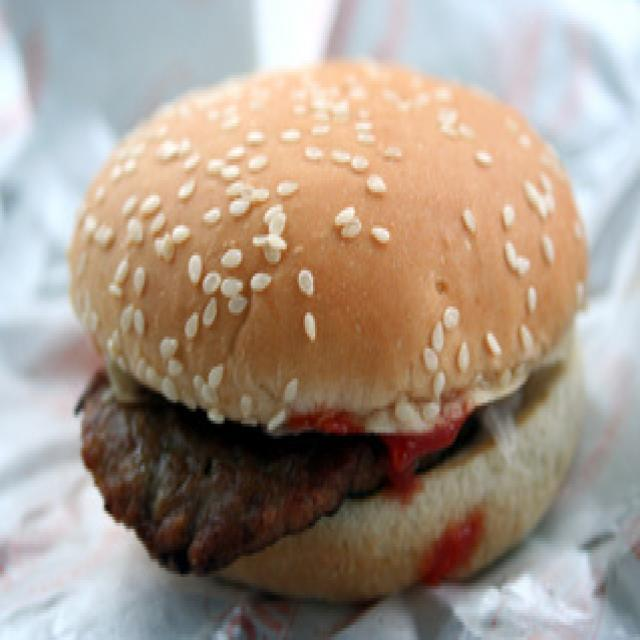Hamburger: (74, 44, 596, 592)
